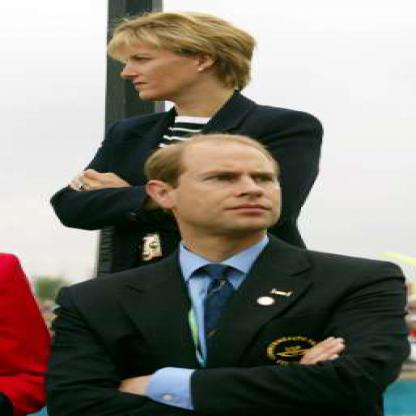face: (168, 134, 292, 234), (98, 25, 205, 101)
